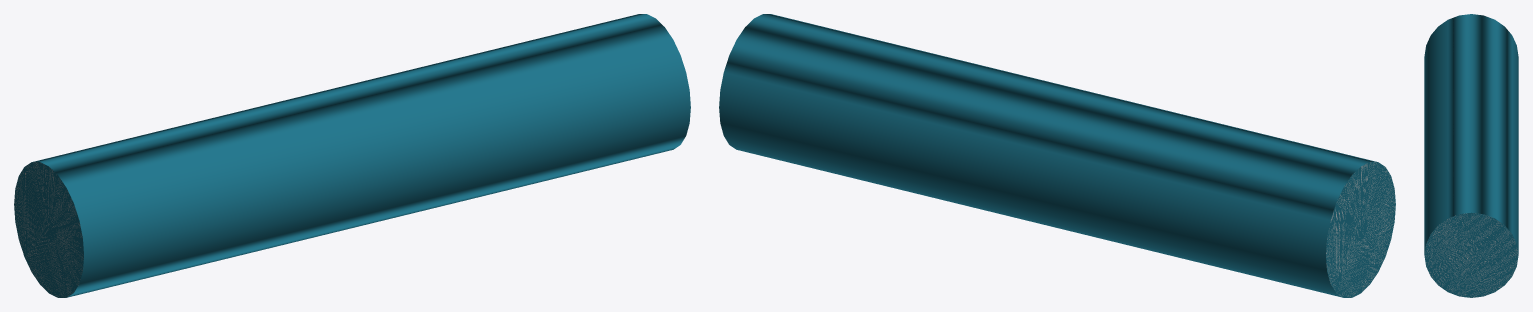
File: original-11.obj
3 views of the same model, side by side, from view 1: azimuth 30°, elevation 25°; view 2: azimuth 150°, elevation 25°; view 3: azimuth 270°, elevation 25° (orthographic). The views are drawn at different scales.
Visible parts, largest first — view 1: mesh115/mesh115-geometry#mesh115-geometry; view 2: mesh115/mesh115-geometry#mesh115-geometry; view 3: mesh115/mesh115-geometry#mesh115-geometry.
Part boxes in pixels (left/top/right/bottom): mesh115/mesh115-geometry#mesh115-geometry: left=14, top=14, right=690, bottom=297; mesh115/mesh115-geometry#mesh115-geometry: left=719, top=14, right=1395, bottom=297; mesh115/mesh115-geometry#mesh115-geometry: left=1424, top=14, right=1518, bottom=297.
Size of the model in its own units: 0.08 by 0.016 by 0.016.
